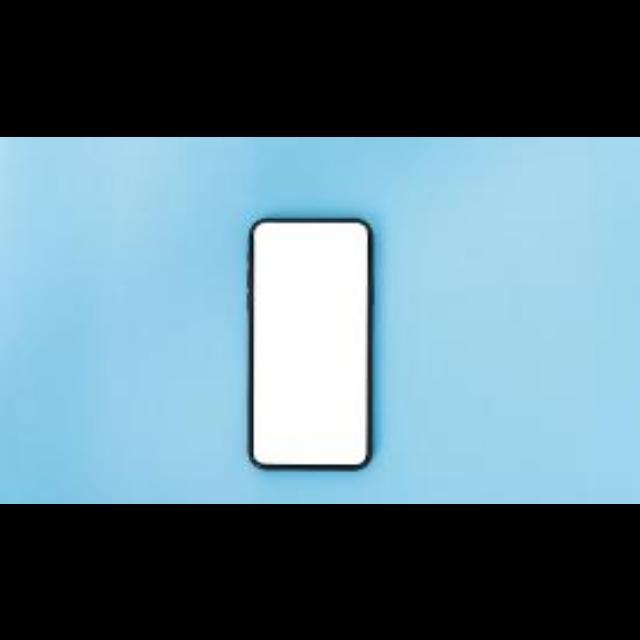Phone: (240, 212, 374, 478)
